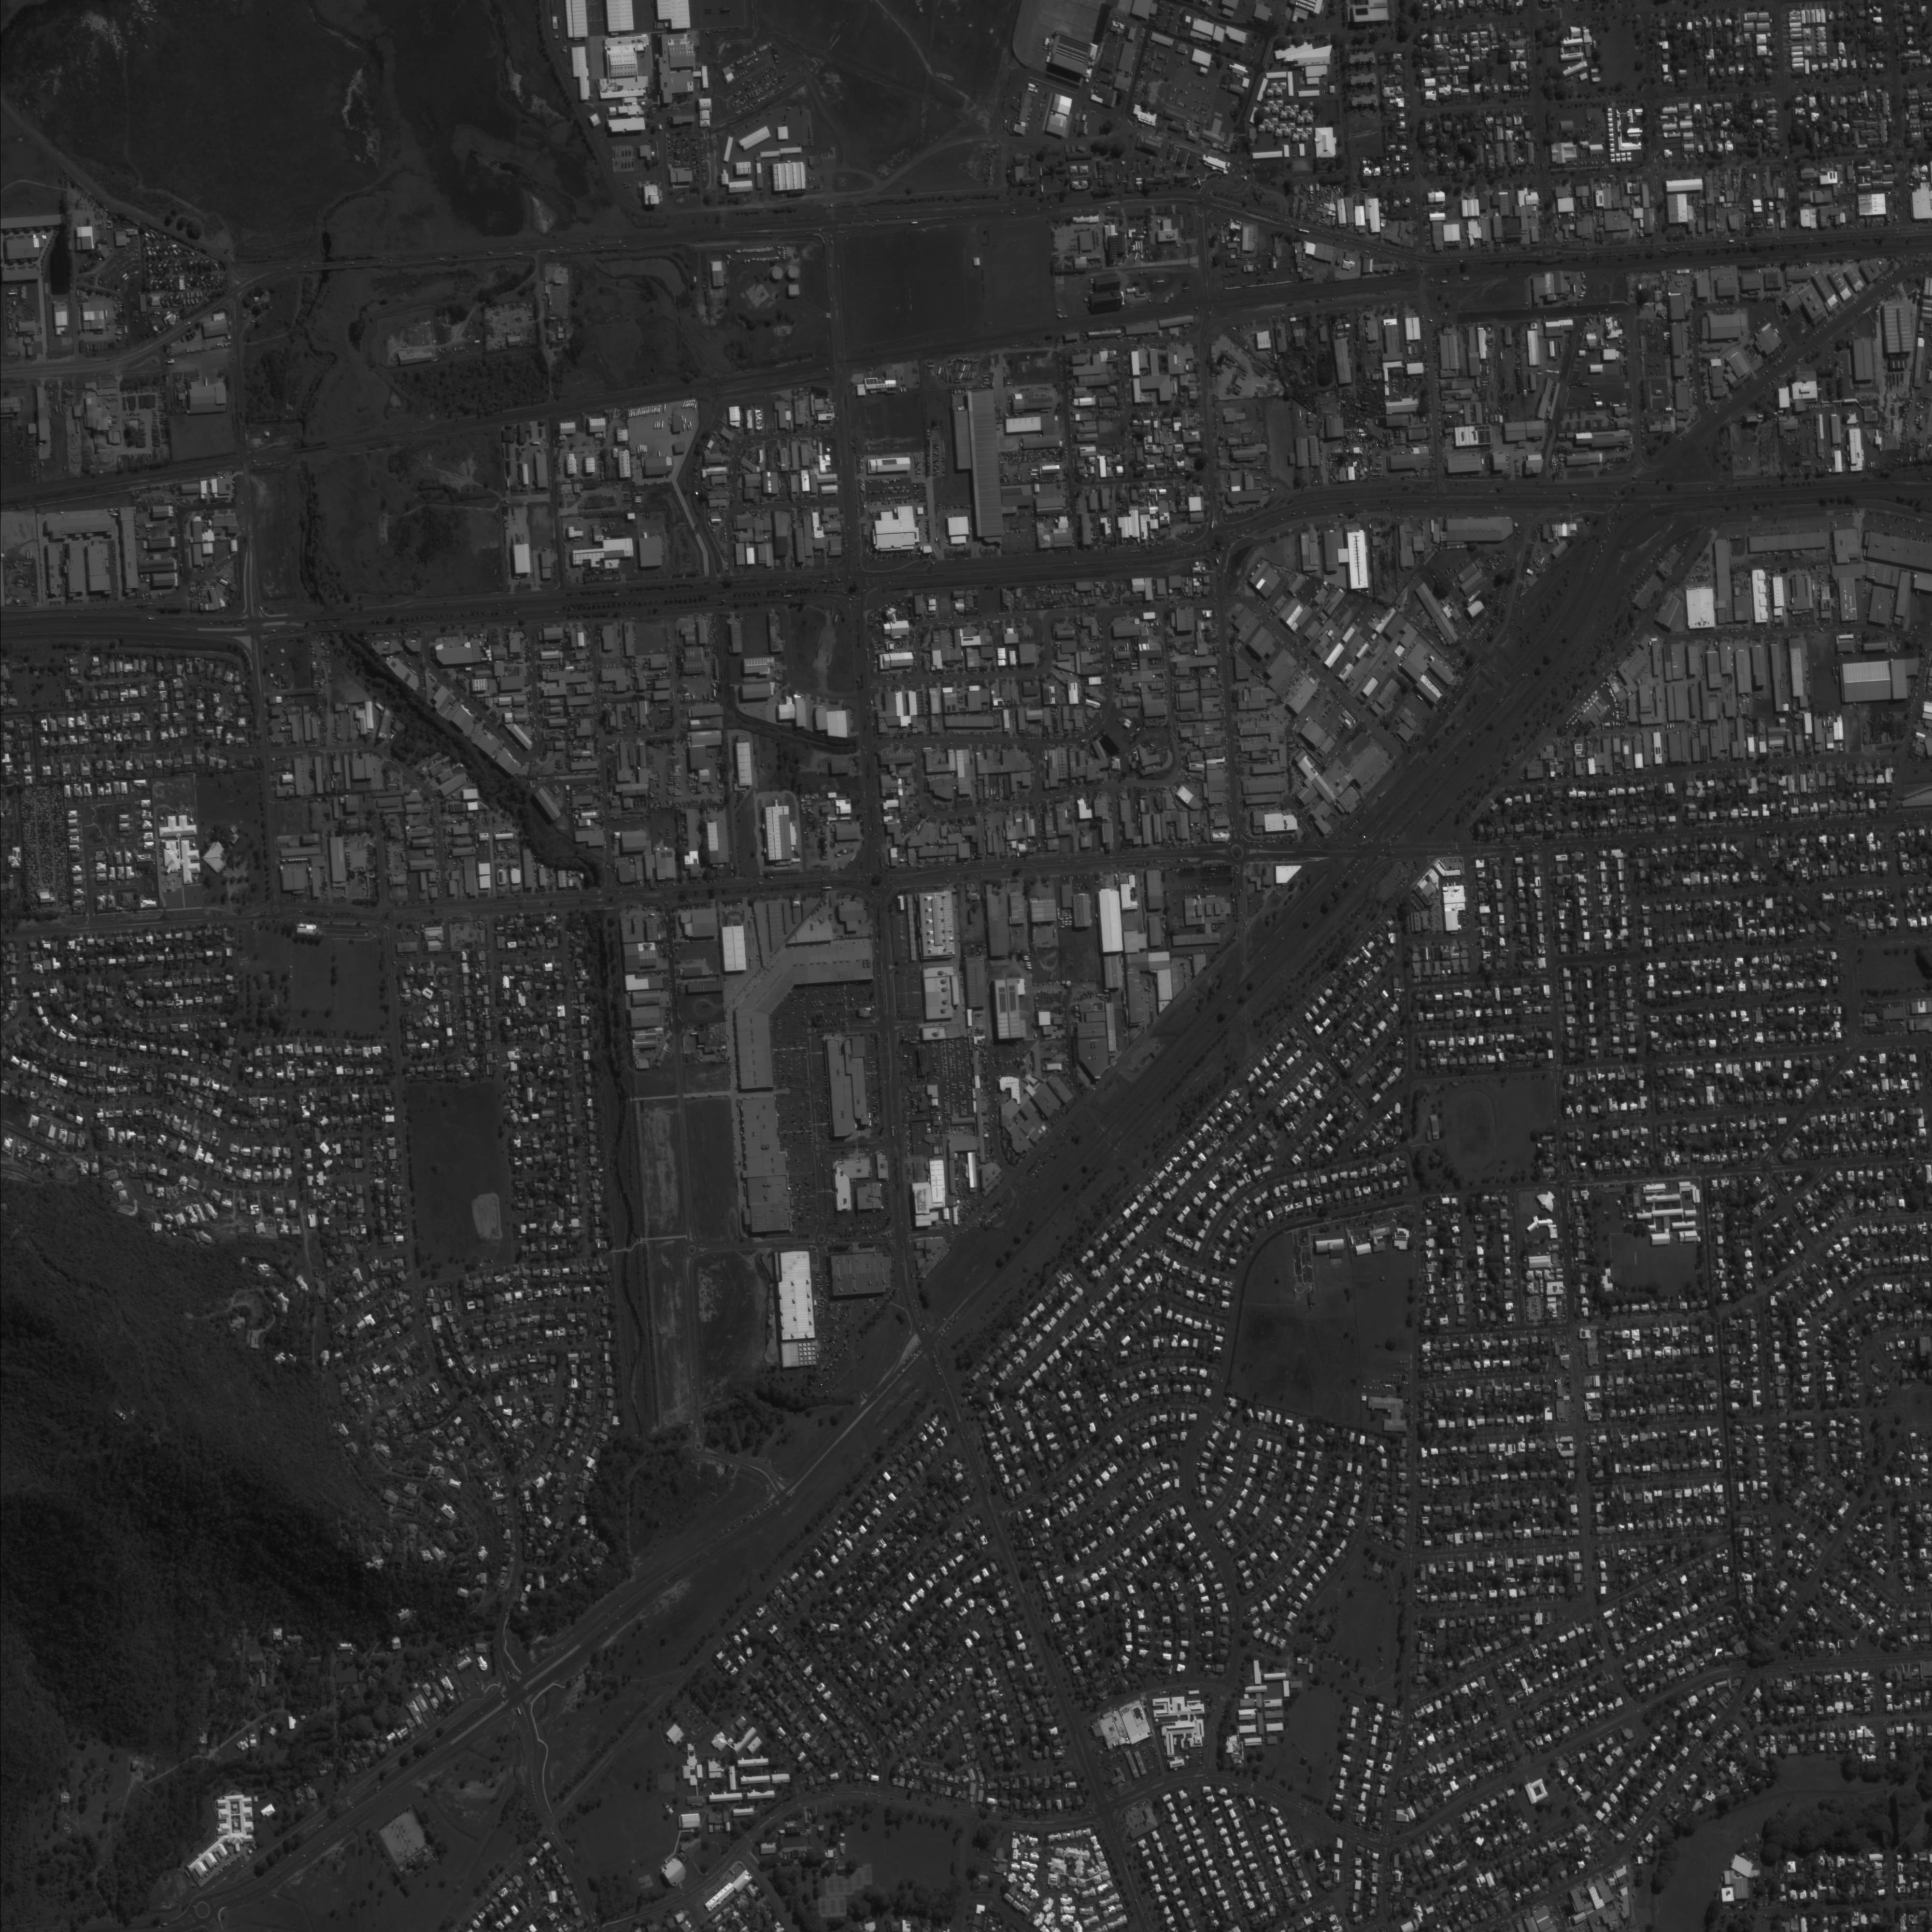bridge: (317, 260, 341, 272)
ground track field: (1444, 1081, 1506, 1182)
plane: (1185, 170, 1210, 193)
roundabout: (844, 575, 865, 598), (193, 1900, 212, 1920), (867, 870, 886, 890), (1210, 531, 1228, 550), (1230, 842, 1246, 862), (1380, 1833, 1394, 1847), (380, 908, 395, 922), (694, 1440, 706, 1454), (686, 1244, 699, 1256), (816, 1233, 828, 1246), (605, 892, 617, 904), (1746, 1663, 1759, 1675), (271, 904, 283, 916), (591, 1923, 602, 1932)
storage tank: (784, 264, 801, 281), (768, 265, 784, 281)
